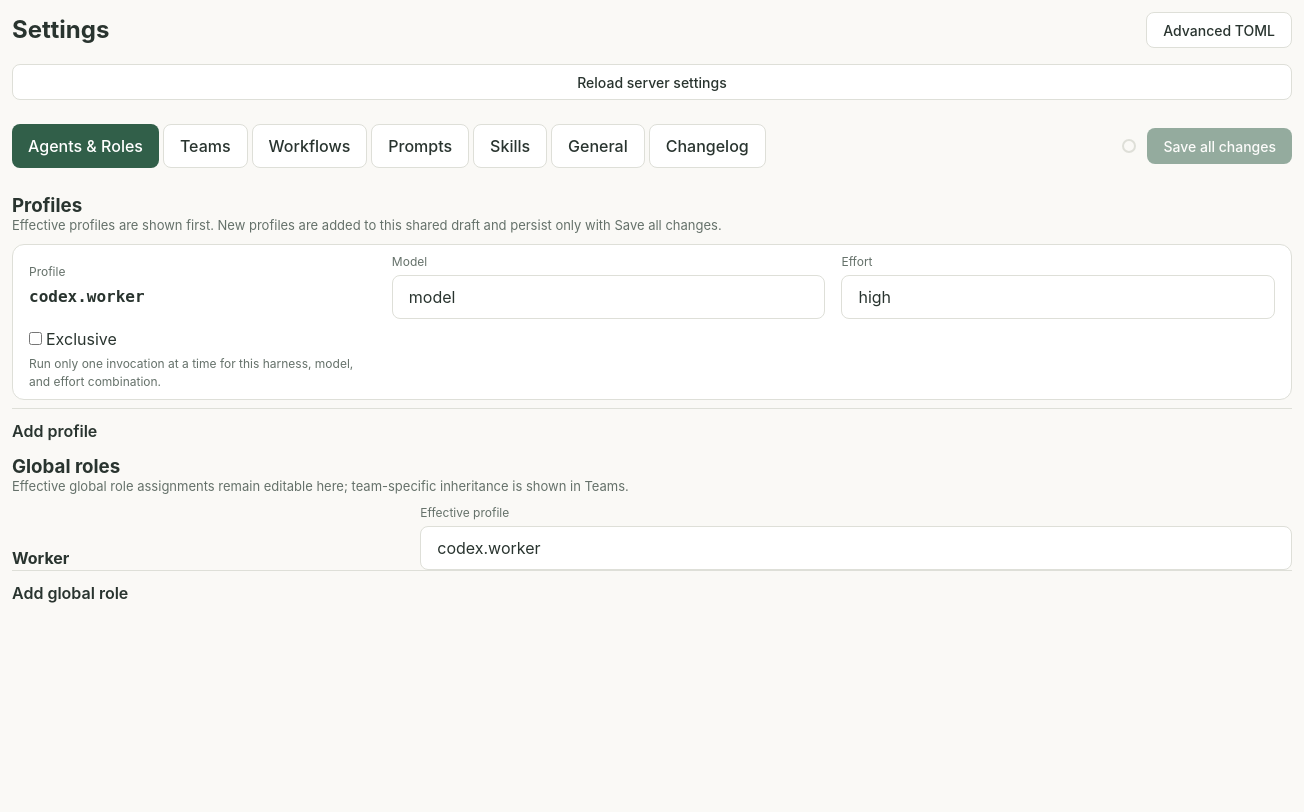
Scenario: GlobalSettings › rejects invalid default threshold -1 before saving
Click the tab "Workflows": (309,146) left=252, top=124, right=367, bottom=168
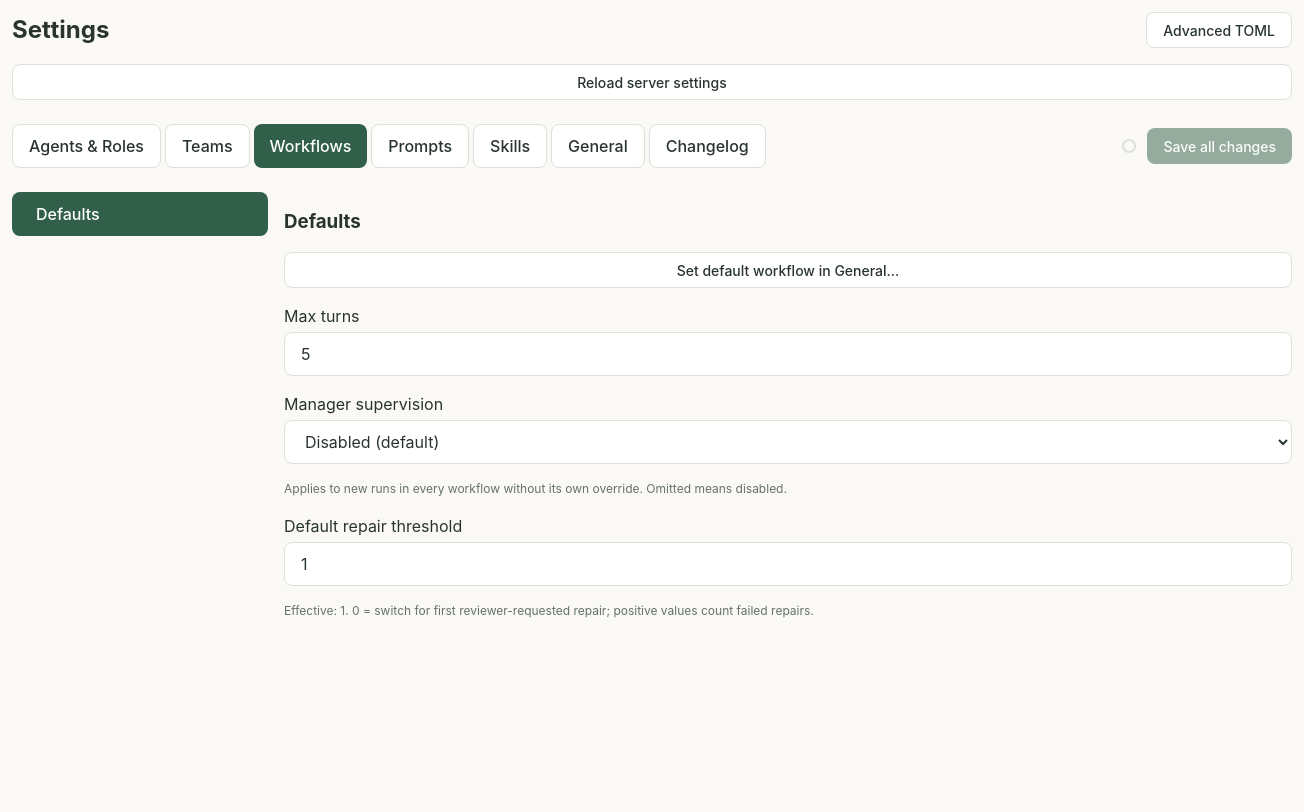
Replace the text in the number field labelled "Default repair threshold" with "-1": (788,564) left=284, top=542, right=1292, bottom=586
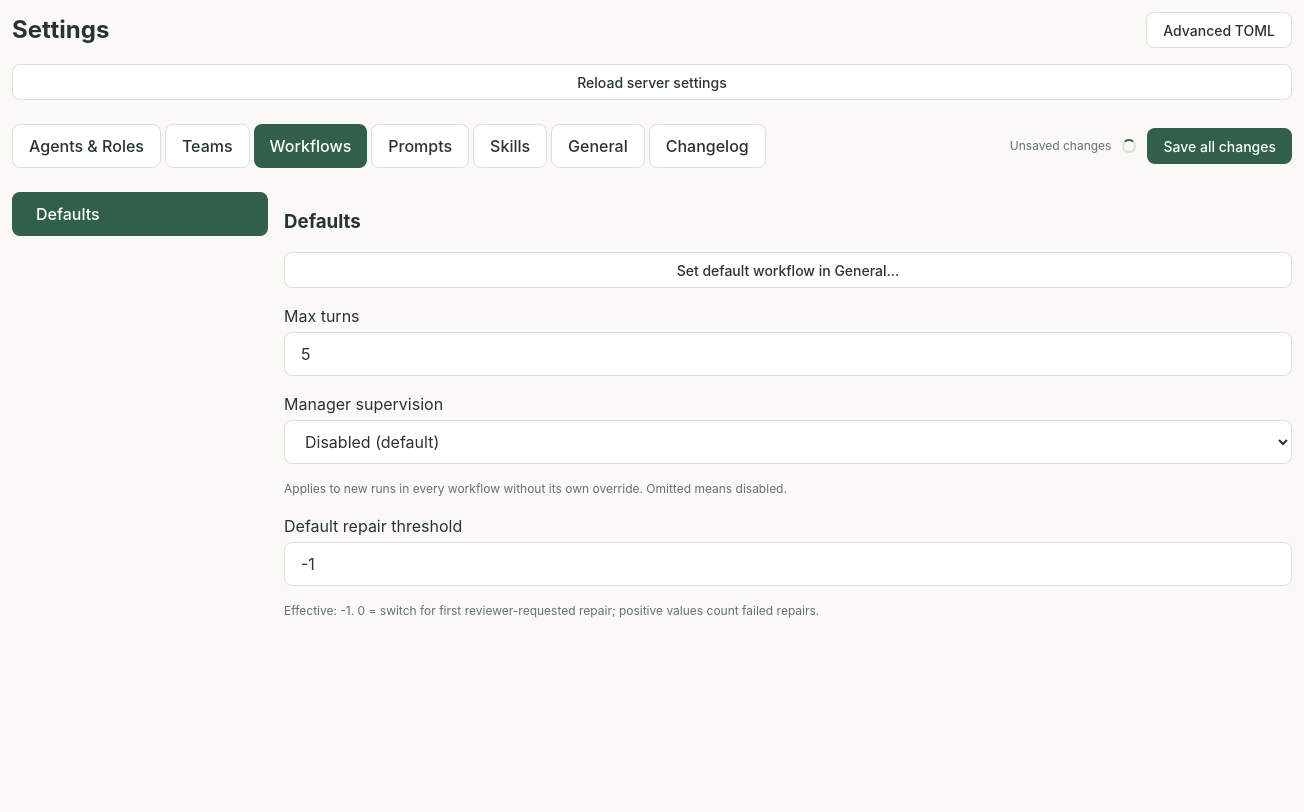
Click the button "Save all changes": (1220,146) left=1147, top=128, right=1292, bottom=164
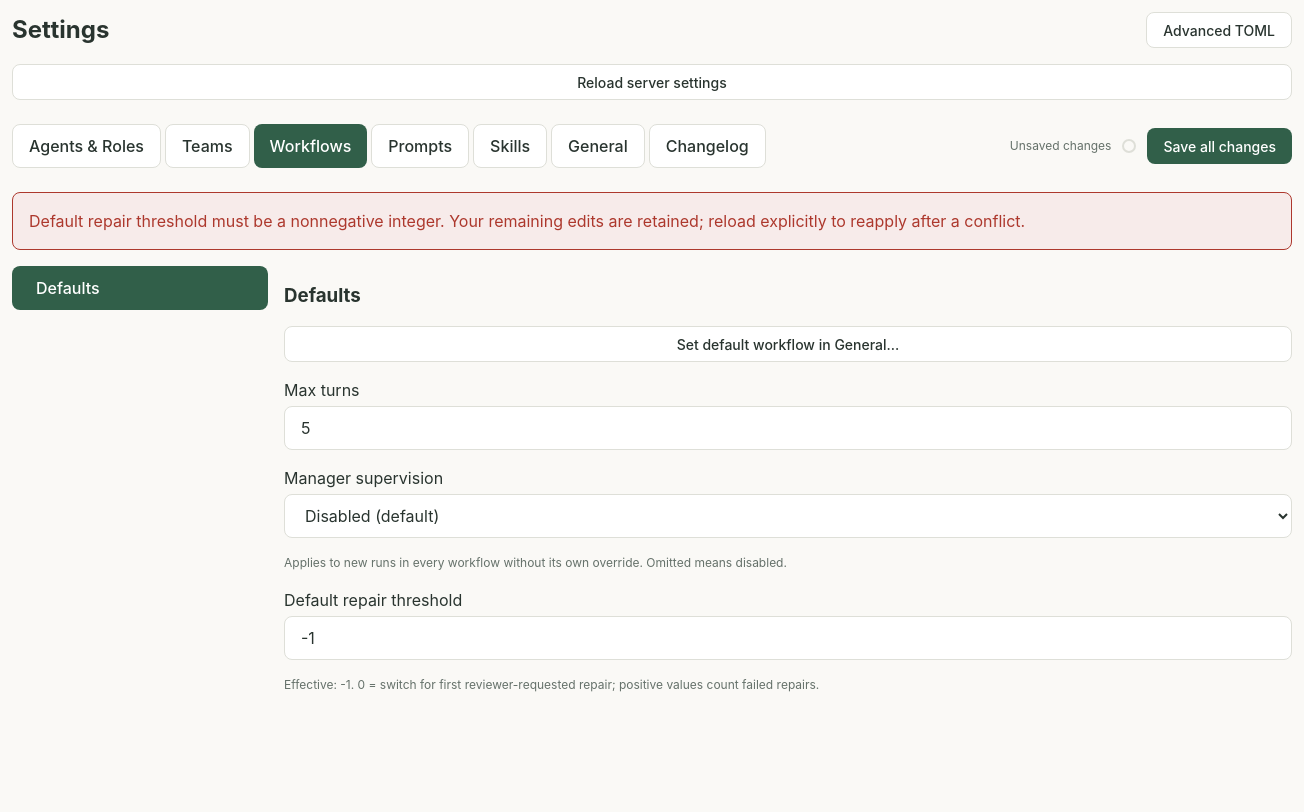
Now the text "Default repair threshold must be a nonnegative integer" is shown, box left=29, top=211, right=1025, bottom=231
